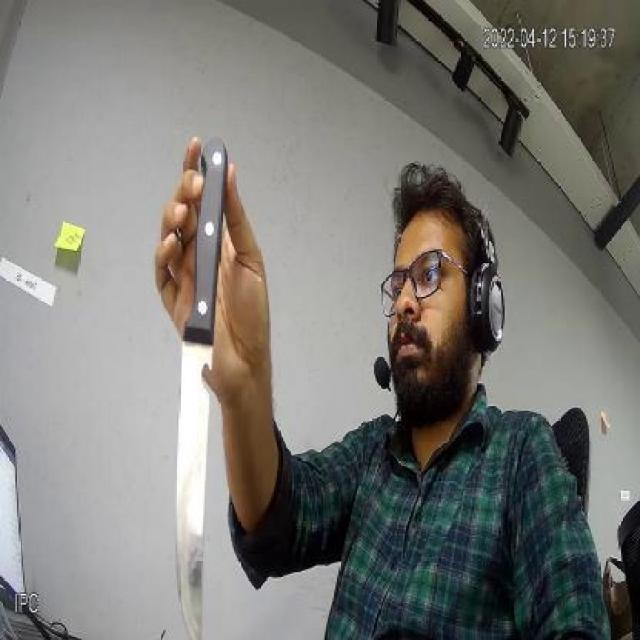-: (168, 251, 217, 640)
